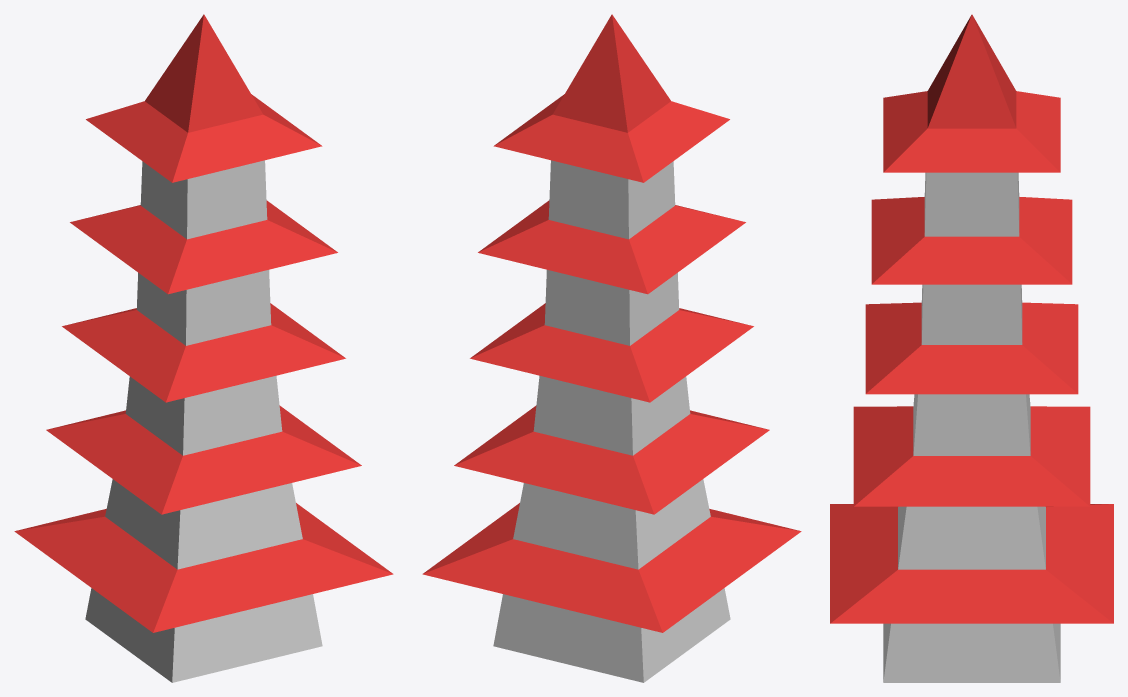
Rendered from housingDistrictPagodaAtlased.glb.
3 views of the same model, side by side, from view 1: azimuth 30°, elevation 25°; view 2: azimuth 150°, elevation 25°; view 3: azimuth 270°, elevation 25° (orthographic). The views are drawn at different scales.
Parts seen in each view (by area): view 1: District; view 2: District; view 3: District.
Part boxes in pixels (bbox=[...]): District: bbox=[14, 14, 393, 682]; District: bbox=[422, 14, 801, 682]; District: bbox=[830, 14, 1113, 682].
Size of the model in its own units: 2.4 by 5.9 by 2.4.
1 material, 1 textured.
